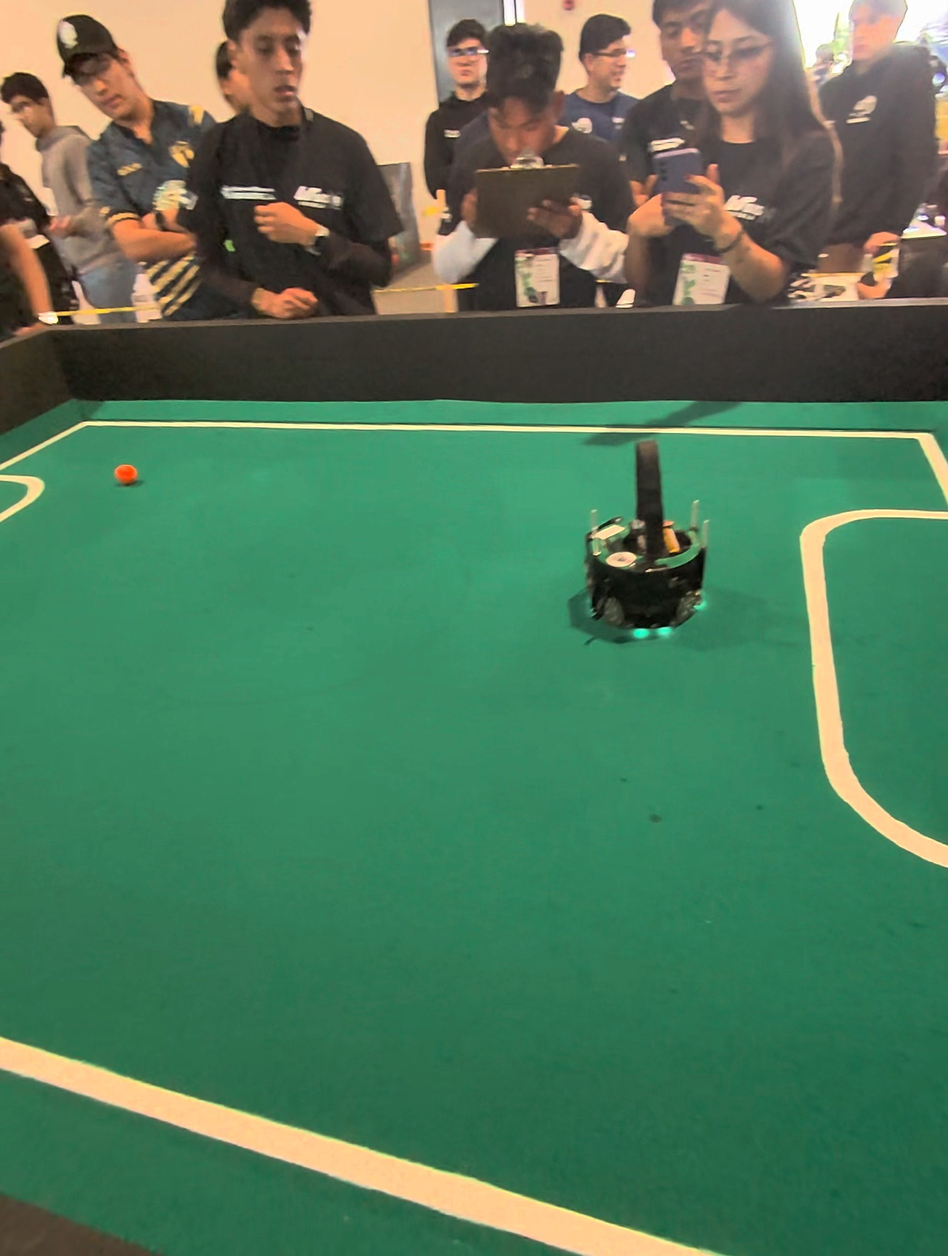Robot: (571, 433, 723, 653)
pelota: (112, 448, 153, 503)
